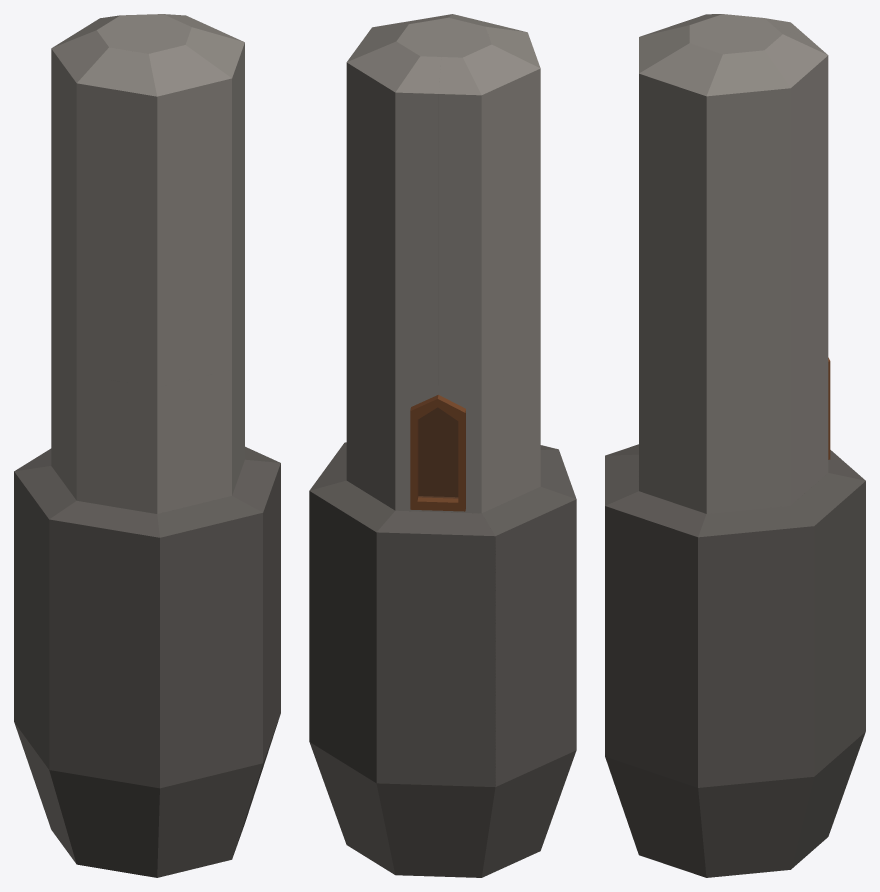
File: TowerBase.fbx
3 views of the same model, side by side, from view 1: azimuth 30°, elevation 25°; view 2: azimuth 150°, elevation 25°; view 3: azimuth 270°, elevation 25° (orthographic).
Parts seen in each view (by area): view 1: Cylinder; view 2: Cylinder; view 3: Cylinder.
Boxes of the visible parts, bbox=[...] form: Cylinder: bbox=[14, 14, 280, 877]; Cylinder: bbox=[309, 14, 576, 877]; Cylinder: bbox=[605, 14, 865, 877].
Bounding box in the file's own units: 268 × 887 × 262.
